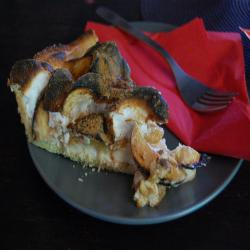apple_pie: (5, 28, 204, 216)
